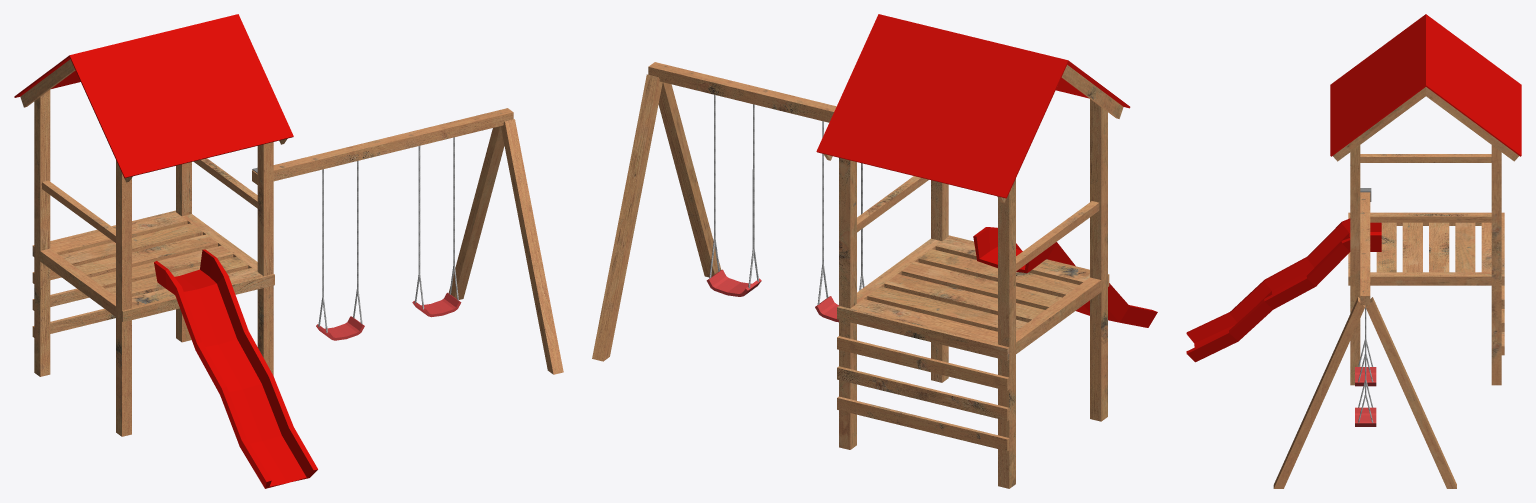
Rendered from Playground_OBJ.obj.
3 views of the same model, side by side, from view 1: azimuth 30°, elevation 25°; view 2: azimuth 150°, elevation 25°; view 3: azimuth 270°, elevation 25° (orthographic). The views are drawn at different scales.
Parts seen in each view (by area): view 1: Planks, Roof, Slide, Ropes_2, Ropes, Swing, Swing_2; view 2: Planks, Roof, Slide, Ropes_2, Swing_2, Ropes; view 3: Planks, Roof, Slide, Swing_2, Ropes_2, Swing.
Part boxes in pixels (left/top/right/bottom): Planks: left=20, top=59, right=563, bottom=436; Roof: left=14, top=14, right=293, bottom=178; Slide: left=154, top=249, right=317, bottom=488; Ropes_2: left=414, top=137, right=458, bottom=309; Ropes: left=318, top=161, right=362, bottom=332; Swing: left=316, top=316, right=364, bottom=340; Swing_2: left=412, top=292, right=461, bottom=317; Planks: left=592, top=62, right=1123, bottom=488; Roof: left=816, top=14, right=1130, bottom=198; Slide: left=973, top=227, right=1157, bottom=327; Ropes_2: left=709, top=94, right=758, bottom=288; Swing_2: left=706, top=269, right=761, bottom=296; Ropes: left=817, top=121, right=864, bottom=304; Planks: left=1273, top=87, right=1518, bottom=488; Roof: left=1330, top=14, right=1521, bottom=156; Slide: left=1186, top=218, right=1381, bottom=362; Swing_2: left=1355, top=407, right=1376, bottom=426; Ropes_2: left=1358, top=305, right=1373, bottom=422; Swing: left=1355, top=367, right=1376, bottom=386.
Bounding box in the file's own units: 4.02 × 3.33 × 3.33.
6 materials, 6 textured.
